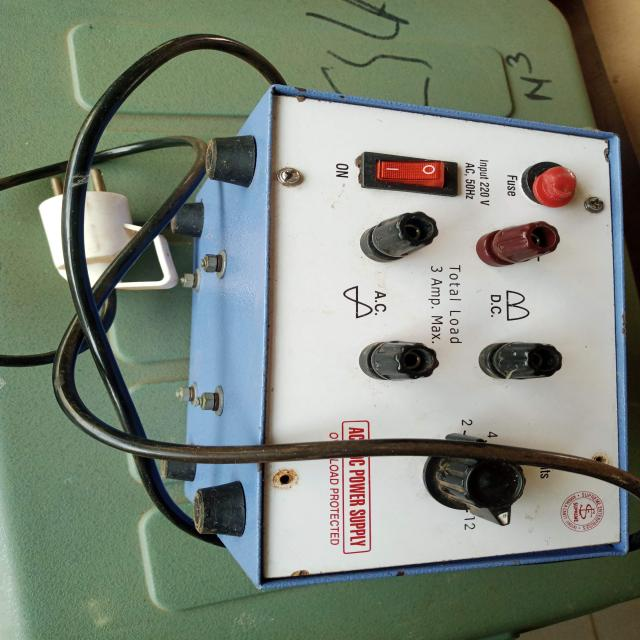AC and DC Power Supply 12 V: (175, 89, 639, 586)
